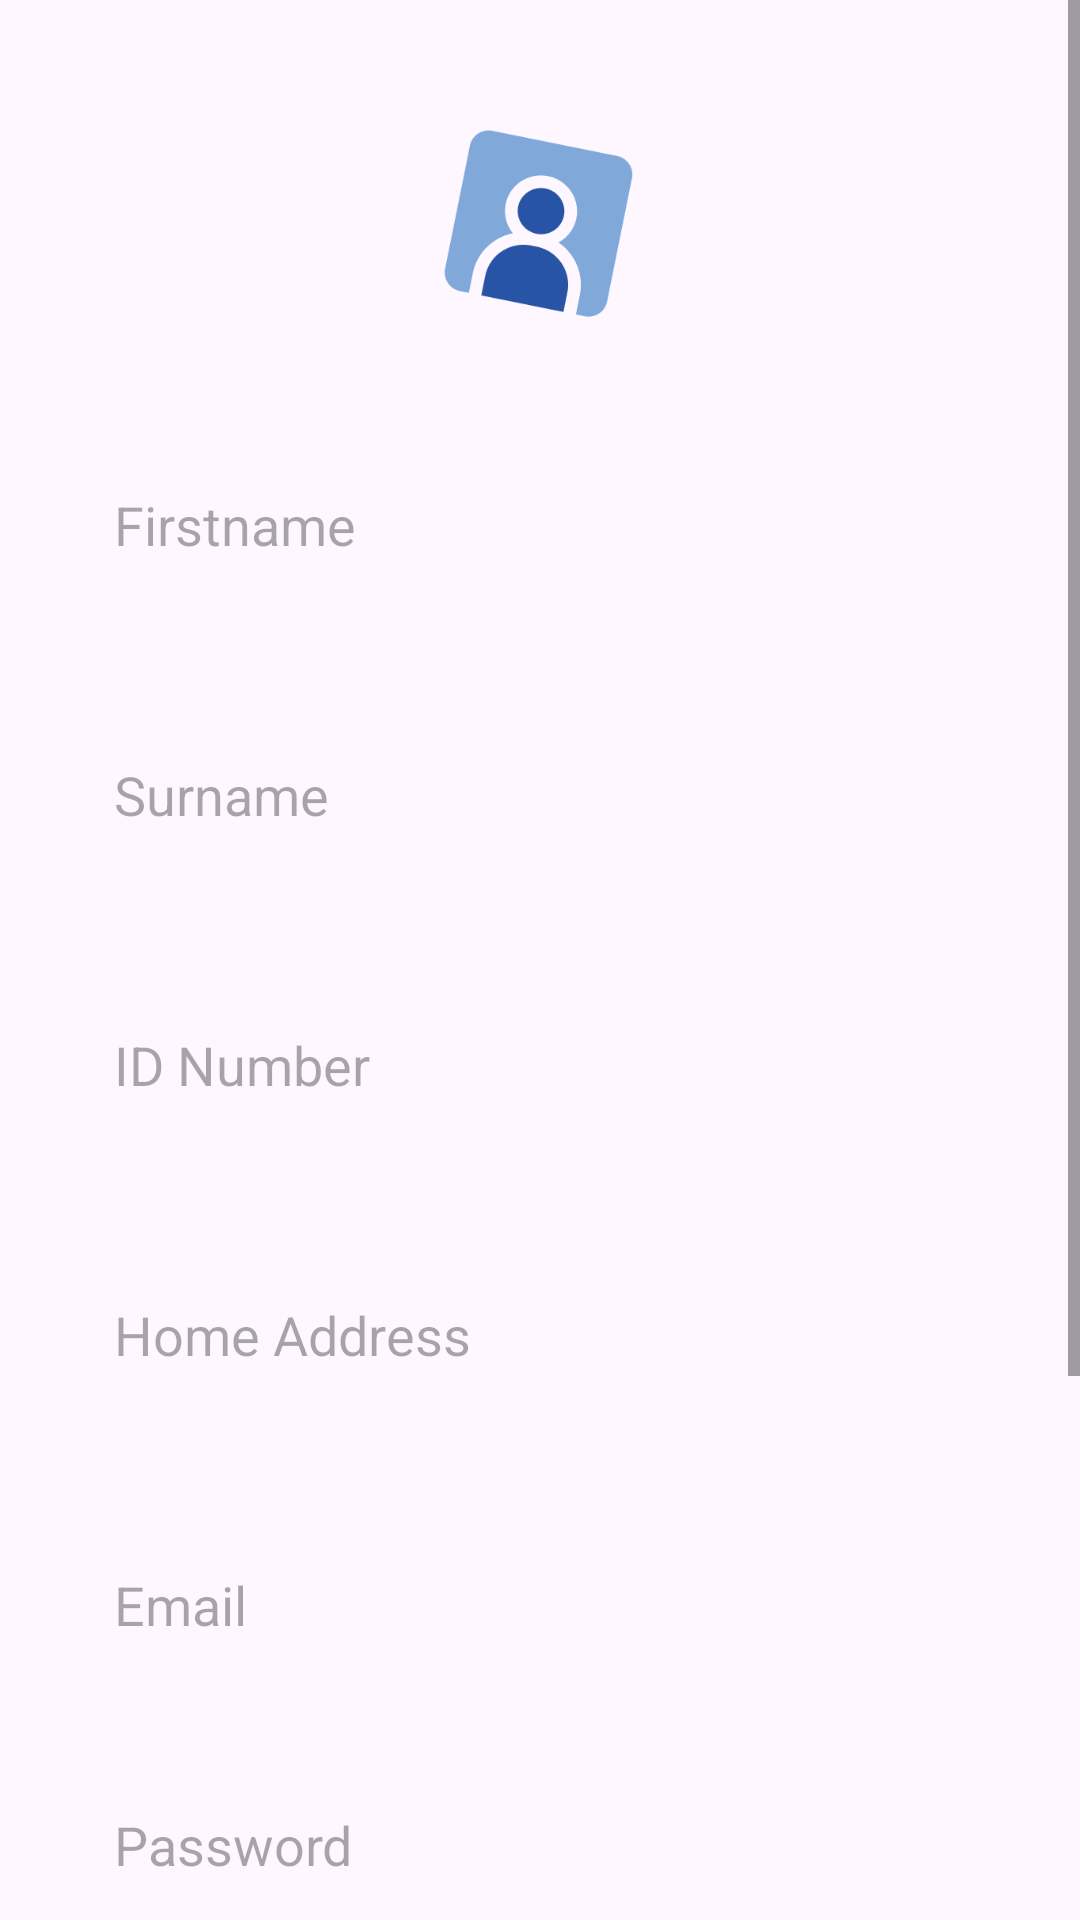

Icon bounding boxes for this 1080 × 1920 phone screenshot, format (x1, y1, x2, y2):
Profile: (444, 130, 633, 317)
